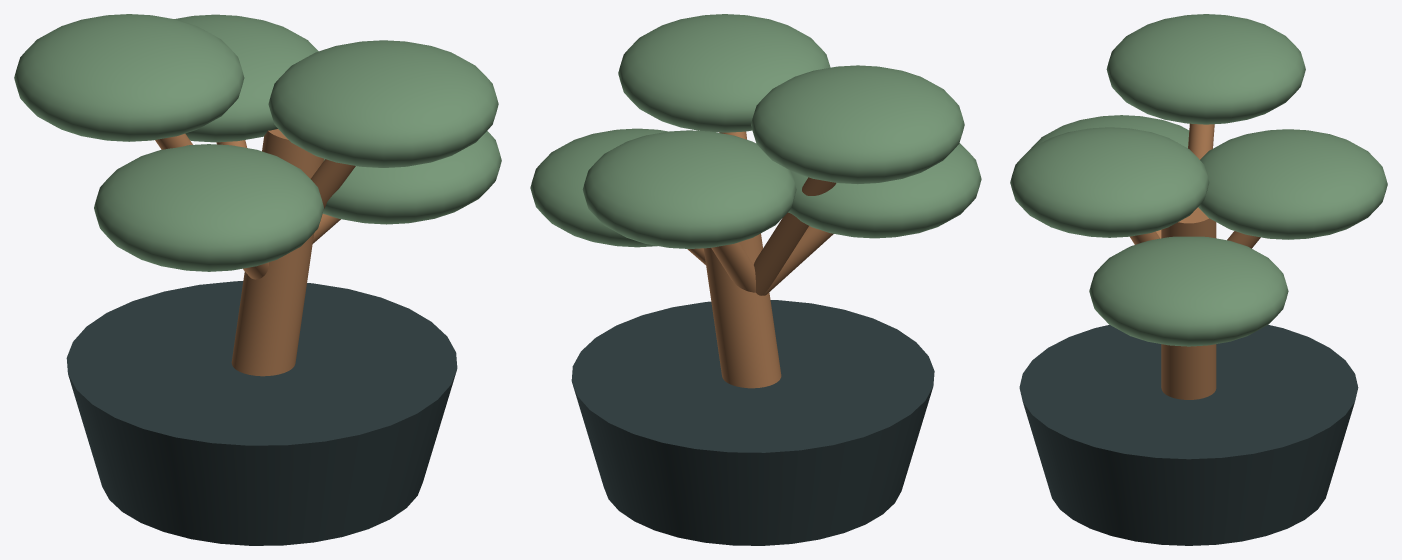
The model's file is bonsai.glb.
3 views of the same model, side by side, from view 1: azimuth 30°, elevation 25°; view 2: azimuth 150°, elevation 25°; view 3: azimuth 270°, elevation 25° (orthographic). The views are drawn at different scales.
Parts seen in each view (by area): view 1: bonsai; view 2: bonsai; view 3: bonsai.
Part boxes in pixels (<box>): bonsai: <box>14,14,501,545</box>; bonsai: <box>530,14,981,545</box>; bonsai: <box>1010,14,1387,545</box>.
Size of the model in its own units: 0.8962 by 0.89 by 0.758.
